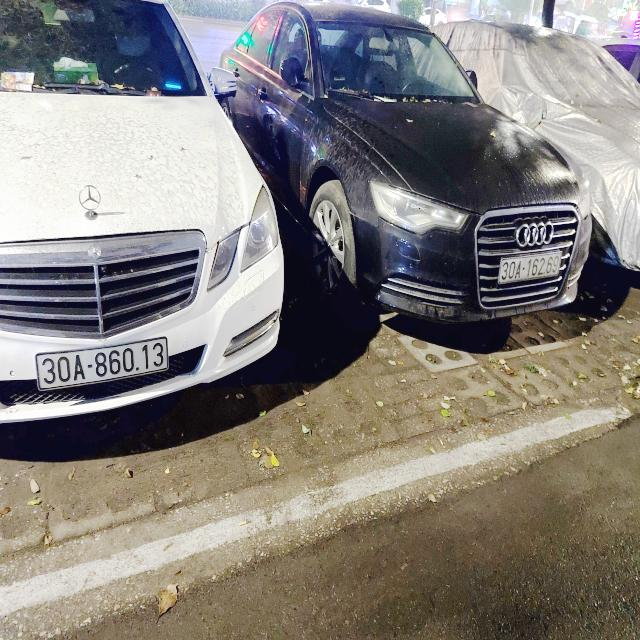license_plate: (36, 334, 172, 394), (498, 249, 564, 285)
